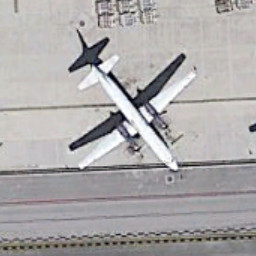Airplane: (58, 47, 204, 198)
